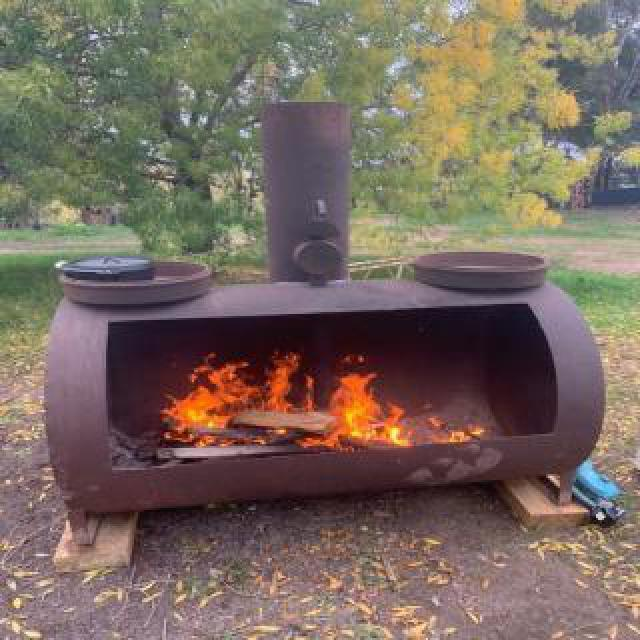Fire: (136, 354, 454, 462)
